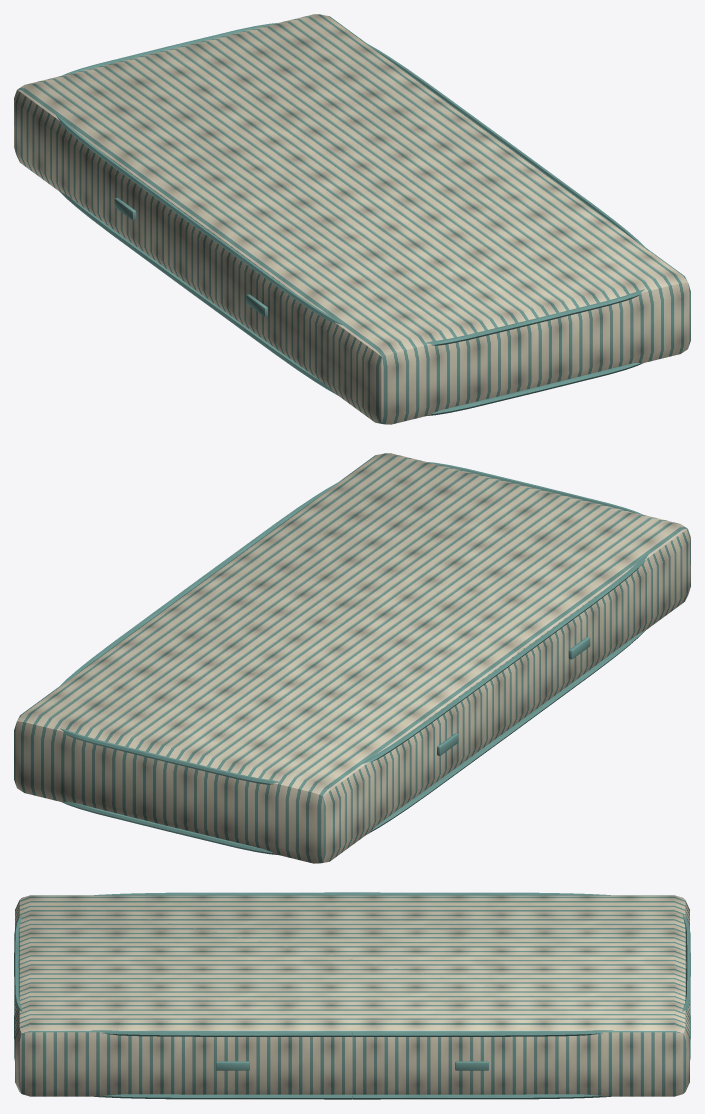
The model's file is mattress.glb.
3 renders of one model, top to bottom at view 1: azimuth 30°, elevation 25°; view 2: azimuth 150°, elevation 25°; view 3: azimuth 270°, elevation 25°, orthographic. The views are drawn at different scales.
Visible parts, largest first — view 1: MattressBody; view 2: MattressBody; view 3: MattressBody.
Boxes of the visible parts, x1,y1,x2,y2 form: MattressBody: (14, 14, 690, 424); MattressBody: (14, 453, 690, 863); MattressBody: (14, 892, 690, 1099).
Bounding box in the file's own units: 1 × 0.234 × 1.98.
Materials: 4 (3 with a texture image).
